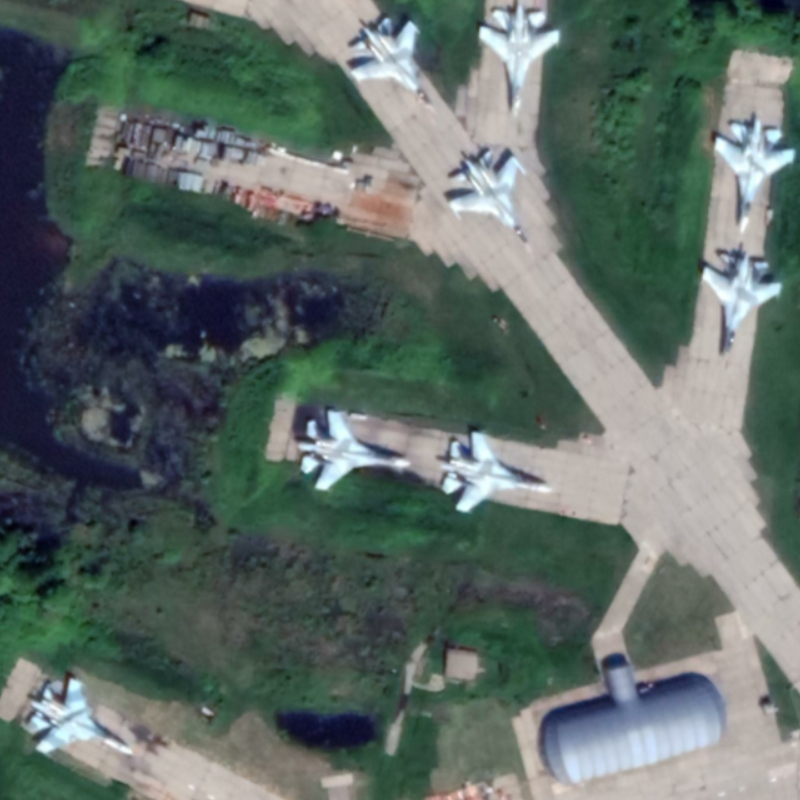A1: (437, 429, 555, 516), (476, 1, 562, 120), (295, 407, 414, 492), (713, 115, 796, 236), (23, 675, 139, 759), (699, 248, 784, 359), (446, 147, 533, 251), (347, 15, 437, 114)
